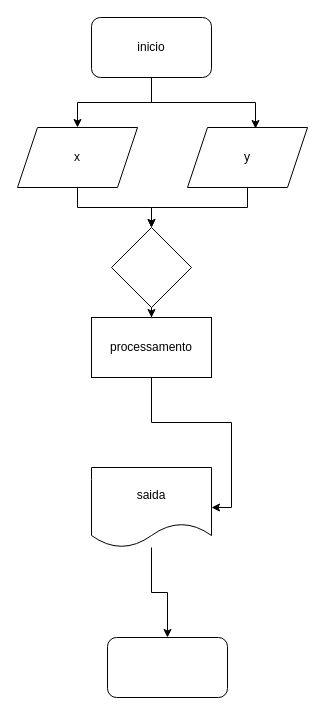
Some shapes in this 325 by 715 pixel diagram are drawn without their labels. Each missing label, with the centre of its shape:
"fim" goes at (x=167, y=667).
"x+y" goes at (x=151, y=267).
